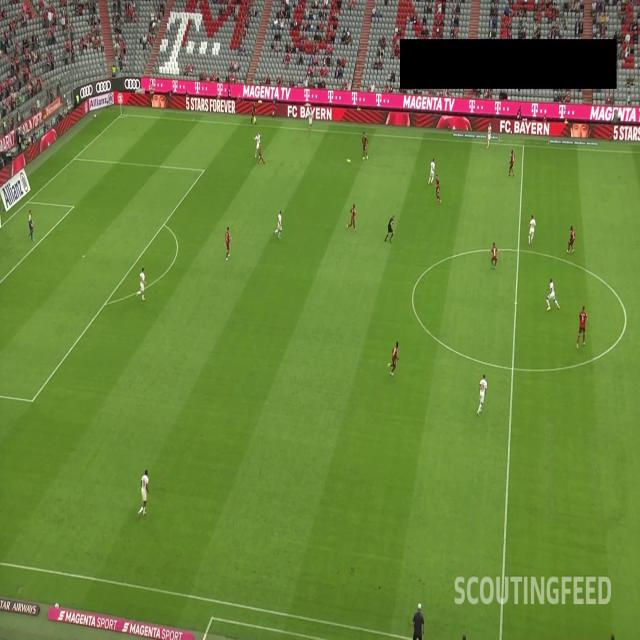ball: (343, 152, 352, 168)
player: (136, 468, 152, 517), (544, 273, 562, 314), (475, 368, 489, 418), (574, 300, 588, 350), (385, 338, 403, 376), (270, 207, 286, 240), (565, 221, 580, 256), (524, 212, 538, 249), (222, 226, 235, 261), (488, 240, 502, 272), (482, 119, 494, 156), (426, 149, 437, 189), (248, 130, 263, 158), (345, 200, 357, 234), (137, 264, 147, 304), (506, 146, 516, 178), (303, 108, 314, 137), (433, 178, 444, 206), (360, 129, 369, 160), (26, 208, 34, 240), (258, 142, 265, 164)
referee: (382, 211, 396, 246), (248, 100, 259, 127)
